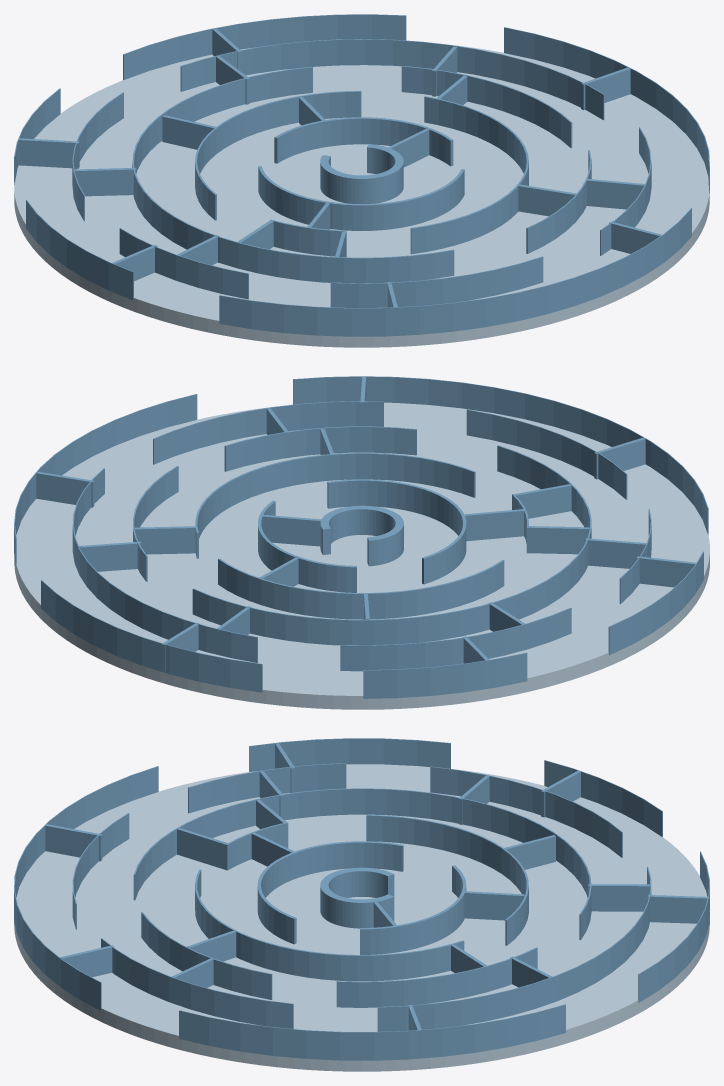
File: maze_4.fbx
3 renders of one model, top to bottom at view 1: azimuth 30°, elevation 25°; view 2: azimuth 150°, elevation 25°; view 3: azimuth 270°, elevation 25°, orthographic.
Visible parts, largest first — view 1: Cylinder.008, Cylinder.006, Cylinder.005, Cylinder.004, Cylinder.003, Cylinder.002, Cylinder.001, Cube.018, Cube.017, Cube.009, Cube.006, Cube.013 (+10 smaller); view 2: Cylinder.008, Cylinder.006, Cylinder.005, Cylinder.004, Cylinder.003, Cylinder.002, Cylinder.001, Cube.005, Cube.002, Cube.010, Cube.001, Cube.015 (+9 smaller); view 3: Cylinder.008, Cylinder.006, Cylinder.005, Cylinder.004, Cylinder.003, Cylinder.002, Cylinder.001, Cube.014, Cube.019, Cube.003, Cube.004, Cube.007 (+10 smaller).
Part boxes in pixels (bbox=[...]): Cylinder.008: bbox=[14, 45, 709, 347]; Cylinder.006: bbox=[14, 14, 709, 336]; Cylinder.005: bbox=[72, 39, 651, 307]; Cylinder.004: bbox=[132, 66, 591, 283]; Cylinder.003: bbox=[195, 90, 528, 256]; Cylinder.002: bbox=[258, 117, 464, 230]; Cylinder.001: bbox=[320, 144, 403, 203]; Cube.018: bbox=[18, 138, 79, 168]; Cube.017: bbox=[74, 168, 135, 196]; Cube.009: bbox=[587, 179, 644, 209]; Cube.006: bbox=[518, 184, 576, 216]; Cube.013: bbox=[162, 115, 215, 149]; Cylinder.008: bbox=[14, 402, 709, 709]; Cylinder.006: bbox=[14, 376, 708, 698]; Cylinder.005: bbox=[72, 401, 651, 671]; Cylinder.004: bbox=[133, 426, 591, 645]; Cylinder.003: bbox=[195, 453, 528, 619]; Cylinder.002: bbox=[258, 479, 466, 592]; Cylinder.001: bbox=[320, 505, 403, 566]; Cube.005: bbox=[464, 509, 523, 541]; Cube.002: bbox=[262, 514, 321, 546]; Cube.010: bbox=[134, 526, 195, 554]; Cube.001: bbox=[529, 526, 589, 554]; Cube.015: bbox=[585, 538, 646, 568]; Cylinder.008: bbox=[14, 764, 709, 1071]; Cylinder.006: bbox=[14, 738, 709, 1060]; Cylinder.005: bbox=[72, 763, 651, 1031]; Cylinder.004: bbox=[133, 788, 591, 1007]; Cylinder.003: bbox=[195, 814, 528, 981]; Cylinder.002: bbox=[257, 841, 466, 954]; Cylinder.001: bbox=[320, 867, 394, 928]; Cube.014: bbox=[588, 884, 649, 911]; Cube.019: bbox=[648, 895, 709, 926]; Cube.003: bbox=[464, 891, 524, 920]; Cube.004: bbox=[177, 828, 227, 869]; Cube.007: bbox=[45, 824, 102, 861].
Size of the model in its own units: 1000 by 62.51 by 1000.
